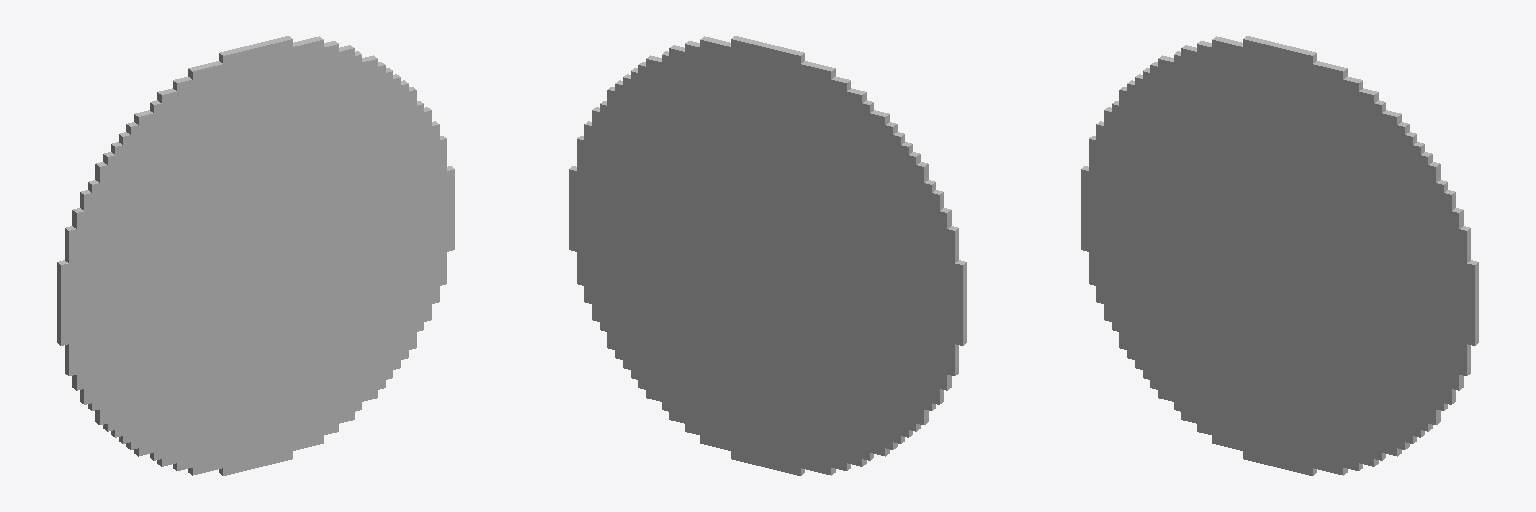
The model's file is Mineways2Skfb.obj.
3 views of the same model, side by side, from view 1: azimuth 30°, elevation 25°; view 2: azimuth 150°, elevation 25°; view 3: azimuth 330°, elevation 25° (orthographic).
Visible parts, largest first — view 1: logo-anonimys.schematic__-143_0_-98_to_164_255_84; view 2: logo-anonimys.schematic__-143_0_-98_to_164_255_84; view 3: logo-anonimys.schematic__-143_0_-98_to_164_255_84.
Boxes of the visible parts, x1=… form: logo-anonimys.schematic__-143_0_-98_to_164_255_84: x1=57, y1=36, x2=454, y2=475; logo-anonimys.schematic__-143_0_-98_to_164_255_84: x1=569, y1=36, x2=966, y2=475; logo-anonimys.schematic__-143_0_-98_to_164_255_84: x1=1081, y1=36, x2=1478, y2=475.
Bounding box in the file's own units: 0.9808 × 1 × 0.0192.